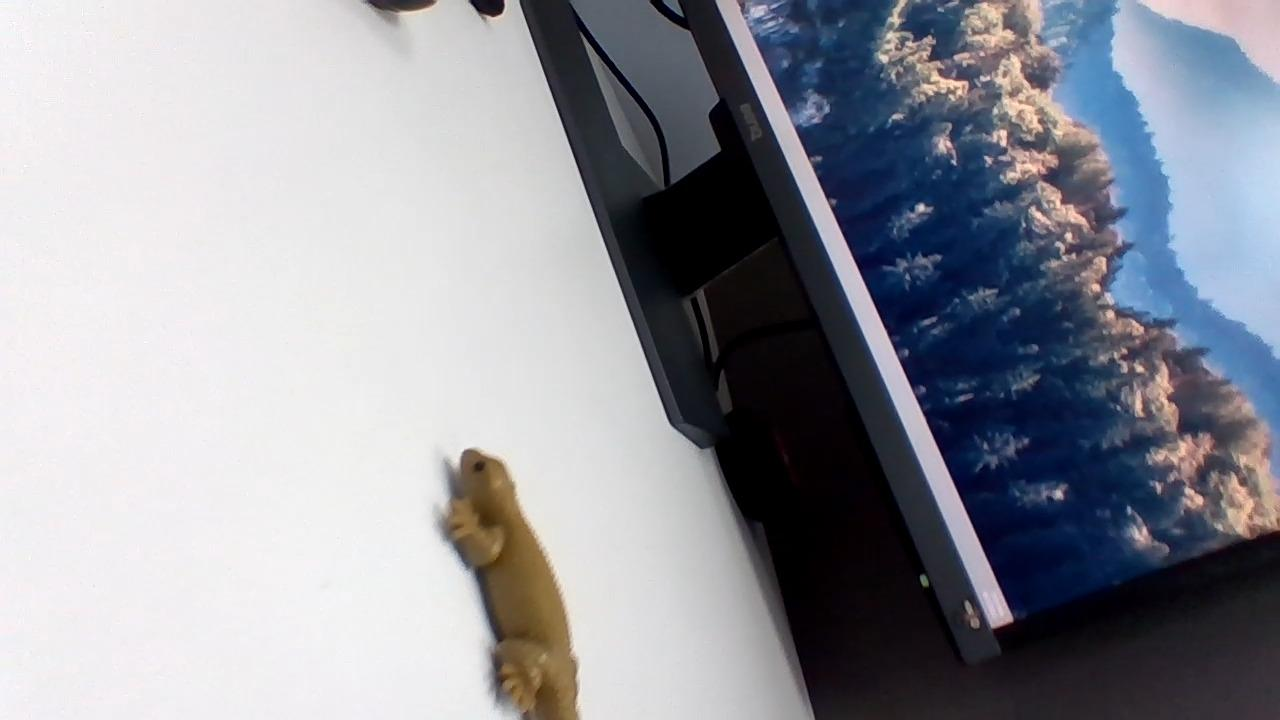lizard: (440, 427, 593, 720)
